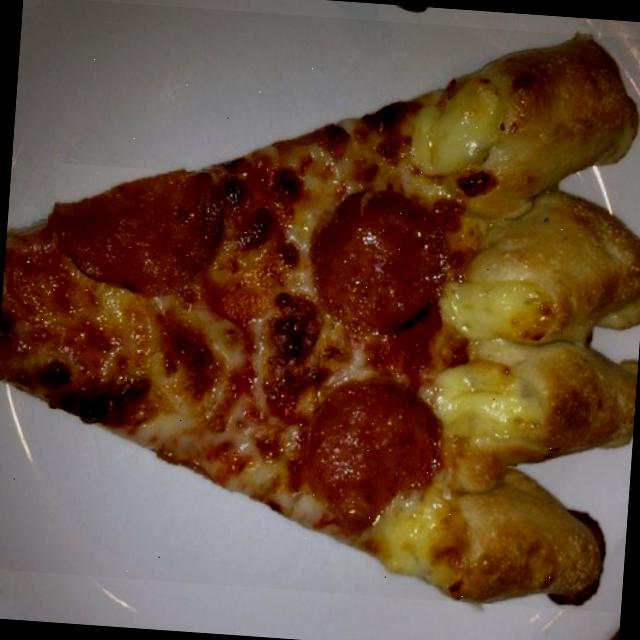pepperoni: (294, 176, 463, 352), (47, 162, 237, 308), (295, 366, 457, 526)
pizza: (0, 35, 640, 603)
